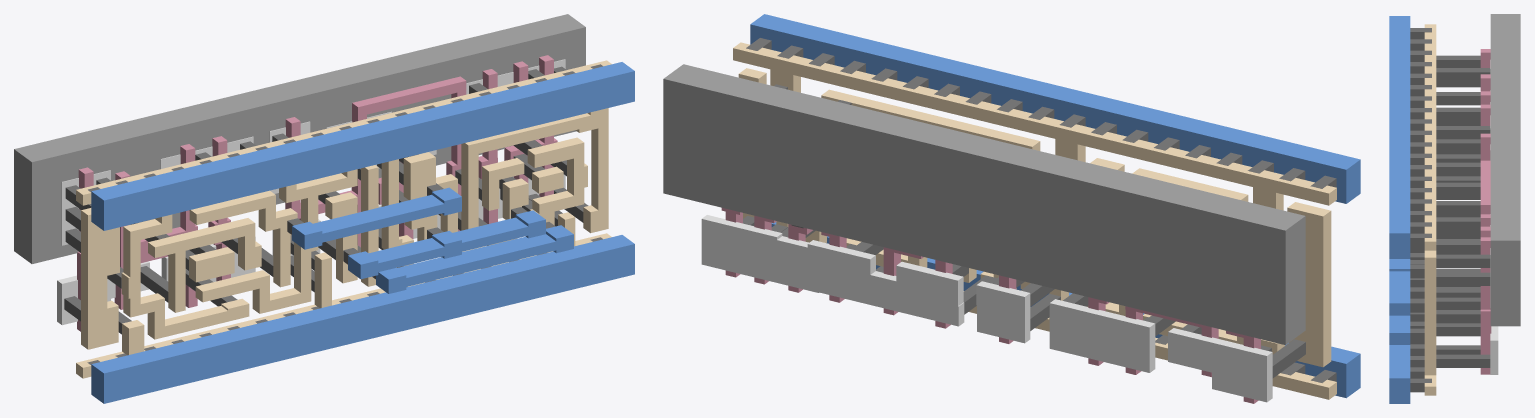
Rendered from sky130_fd_sc_hd__xor3_1.gds.gltf.
3 renders of one model, left to right at view 1: azimuth 30°, elevation 25°; view 2: azimuth 150°, elevation 25°; view 3: azimuth 270°, elevation 25°, orthographic. The views are drawn at different scales.
Visible parts, largest first — view 1: sky130_fd_sc_hd__xor3_1_met1, sky130_fd_sc_hd__xor3_1_li1, sky130_fd_sc_hd__xor3_1_nwell, sky130_fd_sc_hd__xor3_1_poly, sky130_fd_sc_hd__xor3_1_licon, sky130_fd_sc_hd__xor3_1_diff, sky130_fd_sc_hd__xor3_1_mcon; view 2: sky130_fd_sc_hd__xor3_1_nwell, sky130_fd_sc_hd__xor3_1_diff, sky130_fd_sc_hd__xor3_1_li1, sky130_fd_sc_hd__xor3_1_met1, sky130_fd_sc_hd__xor3_1_mcon, sky130_fd_sc_hd__xor3_1_poly, sky130_fd_sc_hd__xor3_1_licon; view 3: sky130_fd_sc_hd__xor3_1_licon, sky130_fd_sc_hd__xor3_1_nwell, sky130_fd_sc_hd__xor3_1_met1, sky130_fd_sc_hd__xor3_1_mcon, sky130_fd_sc_hd__xor3_1_li1, sky130_fd_sc_hd__xor3_1_poly, sky130_fd_sc_hd__xor3_1_diff.
Part boxes in pixels (<box>): sky130_fd_sc_hd__xor3_1_met1: <box>91,62,634,403</box>; sky130_fd_sc_hd__xor3_1_li1: <box>76,60,611,378</box>; sky130_fd_sc_hd__xor3_1_nwell: <box>14,14,585,263</box>; sky130_fd_sc_hd__xor3_1_poly: <box>77,55,557,331</box>; sky130_fd_sc_hd__xor3_1_licon: <box>64,66,588,334</box>; sky130_fd_sc_hd__xor3_1_diff: <box>57,59,565,325</box>; sky130_fd_sc_hd__xor3_1_mcon: <box>87,64,602,364</box>; sky130_fd_sc_hd__xor3_1_nwell: <box>663,64,1305,344</box>; sky130_fd_sc_hd__xor3_1_diff: <box>701,215,1272,402</box>; sky130_fd_sc_hd__xor3_1_li1: <box>733,42,1336,399</box>; sky130_fd_sc_hd__xor3_1_met1: <box>750,14,1360,398</box>; sky130_fd_sc_hd__xor3_1_mcon: <box>746,38,1336,382</box>; sky130_fd_sc_hd__xor3_1_poly: <box>721,208,1260,403</box>; sky130_fd_sc_hd__xor3_1_licon: <box>743,84,1305,378</box>; sky130_fd_sc_hd__xor3_1_licon: <box>1436,55,1490,367</box>; sky130_fd_sc_hd__xor3_1_nwell: <box>1490,14,1520,326</box>; sky130_fd_sc_hd__xor3_1_met1: <box>1389,16,1410,403</box>; sky130_fd_sc_hd__xor3_1_mcon: <box>1410,28,1431,392</box>; sky130_fd_sc_hd__xor3_1_li1: <box>1424,24,1436,395</box>; sky130_fd_sc_hd__xor3_1_poly: <box>1480,49,1491,374</box>; sky130_fd_sc_hd__xor3_1_diff: <box>1490,60,1498,374</box>.
Size of the model in its own units: 9.12 by 3.2 by 2.24.
